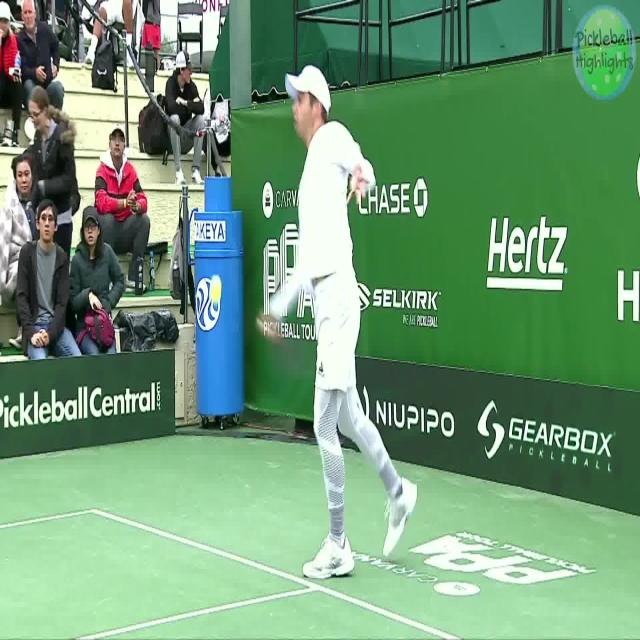ball: (208, 273, 222, 312)
